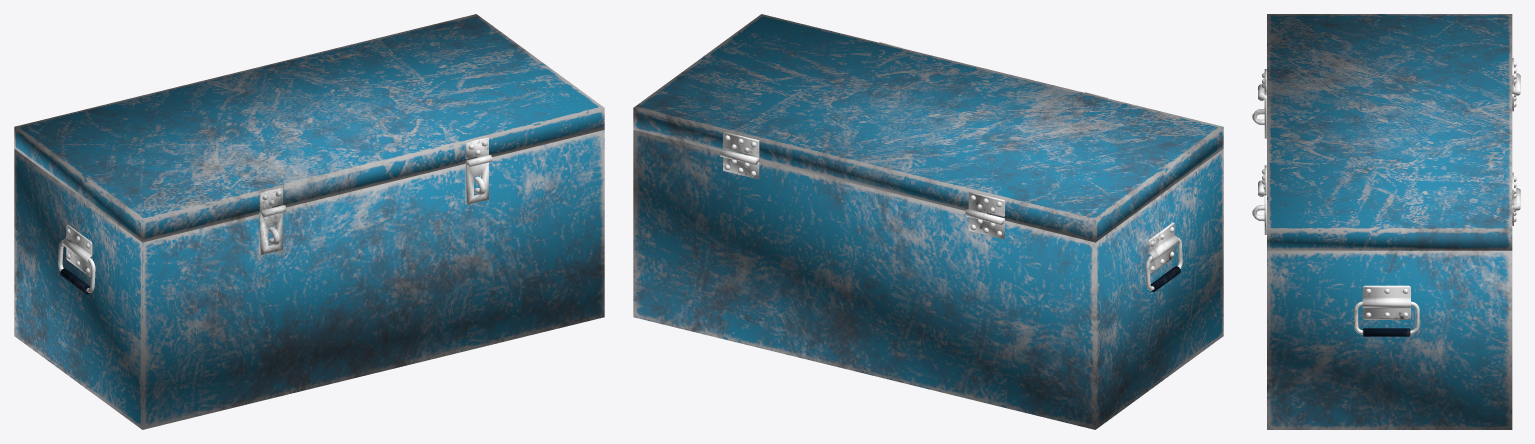
3 views of the same model, side by side, from view 1: azimuth 30°, elevation 25°; view 2: azimuth 150°, elevation 25°; view 3: azimuth 270°, elevation 25° (orthographic). The views are drawn at different scales.
Parts seen in each view (by area): view 1: chest_bottom_low, chest_top_low, chest_lock_low, chest_handle_low; view 2: chest_bottom_low, chest_top_low, chest_hinge_low, chest_handle_low; view 3: chest_top_low, chest_bottom_low, chest_handle_low, chest_lock_low, chest_hinge_low, chest_bottom_lock_low.
Boxes of the visible parts, x1,y1,x2,y2 form: chest_bottom_low: [14, 130, 604, 429]; chest_top_low: [14, 14, 604, 242]; chest_lock_low: [259, 137, 492, 255]; chest_handle_low: [58, 225, 95, 294]; chest_bottom_low: [633, 130, 1223, 429]; chest_top_low: [633, 14, 1223, 242]; chest_hinge_low: [719, 132, 1004, 239]; chest_handle_low: [1145, 222, 1182, 291]; chest_top_low: [1267, 14, 1512, 250]; chest_bottom_low: [1267, 250, 1512, 429]; chest_handle_low: [1354, 285, 1419, 336]; chest_lock_low: [1258, 69, 1266, 234]; chest_hinge_low: [1512, 58, 1520, 225]; chest_bottom_lock_low: [1252, 108, 1264, 221].
Bounding box in the file's own units: 81.15 × 34.04 × 41.29.
1 material, 1 textured.
